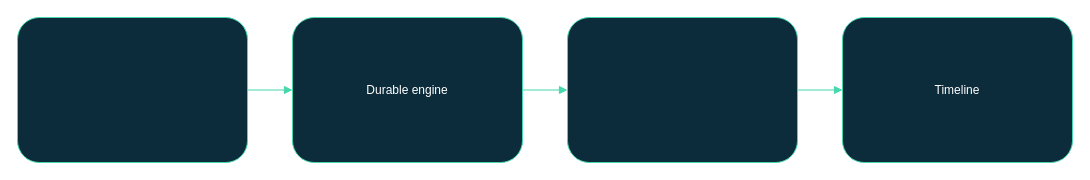
Some shapes in this 1090 by 180 pixel diagram are drawn without their labels. The shapes that lost their labels are listed below. From the top down, each one's box as (x1, y1, x2, y2) in pixels, then its label:
(16, 16, 248, 162): Start
(566, 16, 798, 162): Projection
